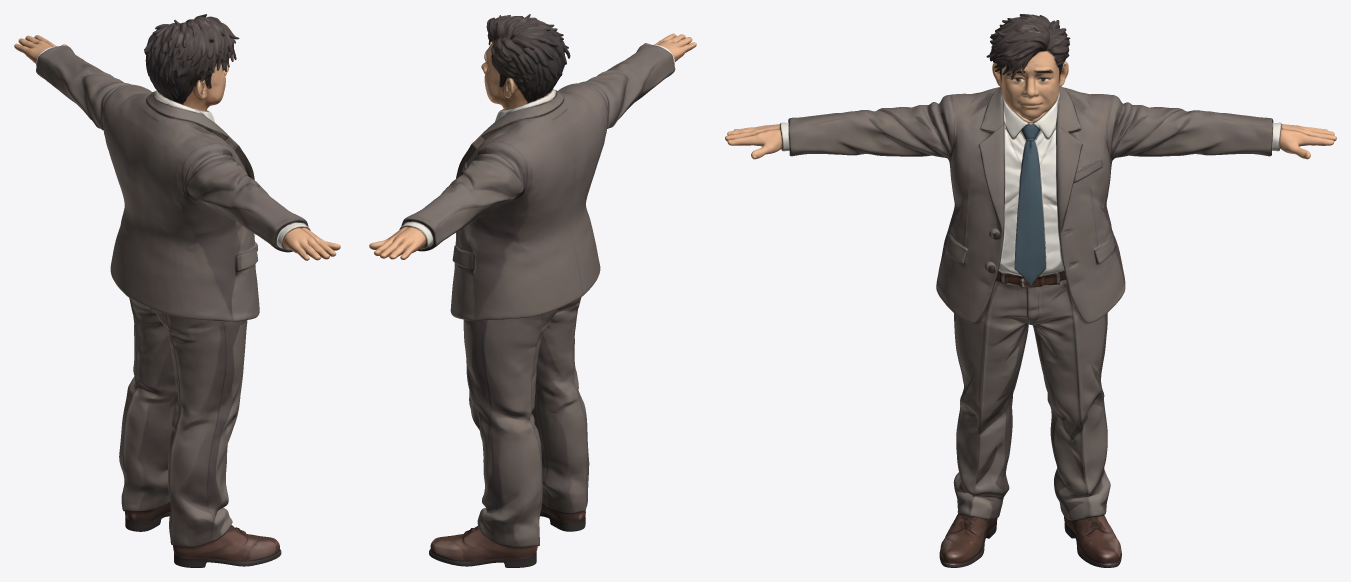
File: salaryman-tripo-04.glb
3 views of the same model, side by side, from view 1: azimuth 30°, elevation 25°; view 2: azimuth 150°, elevation 25°; view 3: azimuth 270°, elevation 25° (orthographic).
Visible parts, largest first — view 1: tripo_node_4ff46fb9-dcd2-4415-adcc-7c35805d8386; view 2: tripo_node_4ff46fb9-dcd2-4415-adcc-7c35805d8386; view 3: tripo_node_4ff46fb9-dcd2-4415-adcc-7c35805d8386.
Part boxes in pixels (<box>): tripo_node_4ff46fb9-dcd2-4415-adcc-7c35805d8386: <box>14,14,340,567</box>; tripo_node_4ff46fb9-dcd2-4415-adcc-7c35805d8386: <box>369,14,696,567</box>; tripo_node_4ff46fb9-dcd2-4415-adcc-7c35805d8386: <box>725,14,1336,567</box>.
Bounding box in the file's own units: 0.2246 × 0.9501 × 1.
Materials: 1 (1 with a texture image).
